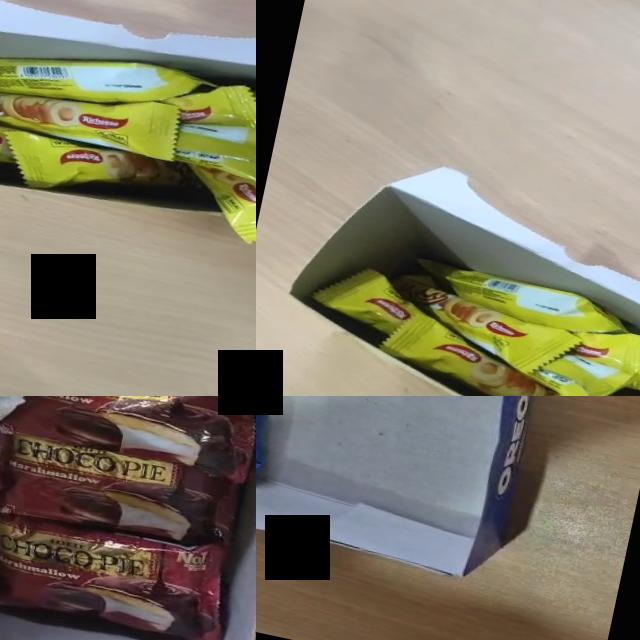Ahh: (0, 12, 219, 136), (378, 268, 590, 384), (0, 47, 184, 161), (0, 123, 206, 221), (408, 258, 635, 344), (372, 301, 561, 396), (304, 257, 437, 342), (175, 161, 256, 258), (158, 68, 256, 140), (169, 107, 256, 187), (518, 344, 639, 396), (560, 319, 640, 392)
Chocopie: (0, 418, 247, 565), (0, 496, 243, 640), (0, 396, 256, 484)
